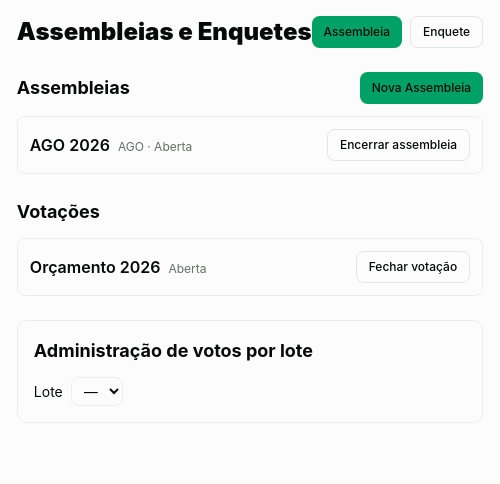
AssemblyVotingPage › surfaces API errors raised by the mutations
The width and height of the screenshot is (500, 484).
Click the button "Fechar votação" at coordinates (413, 267), box [356,251,470,283]
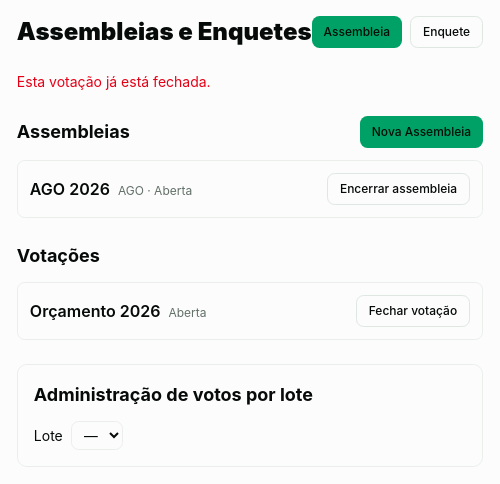
Check: the text "Esta votação já está fechada." is shown, box [17,73,211,90]
